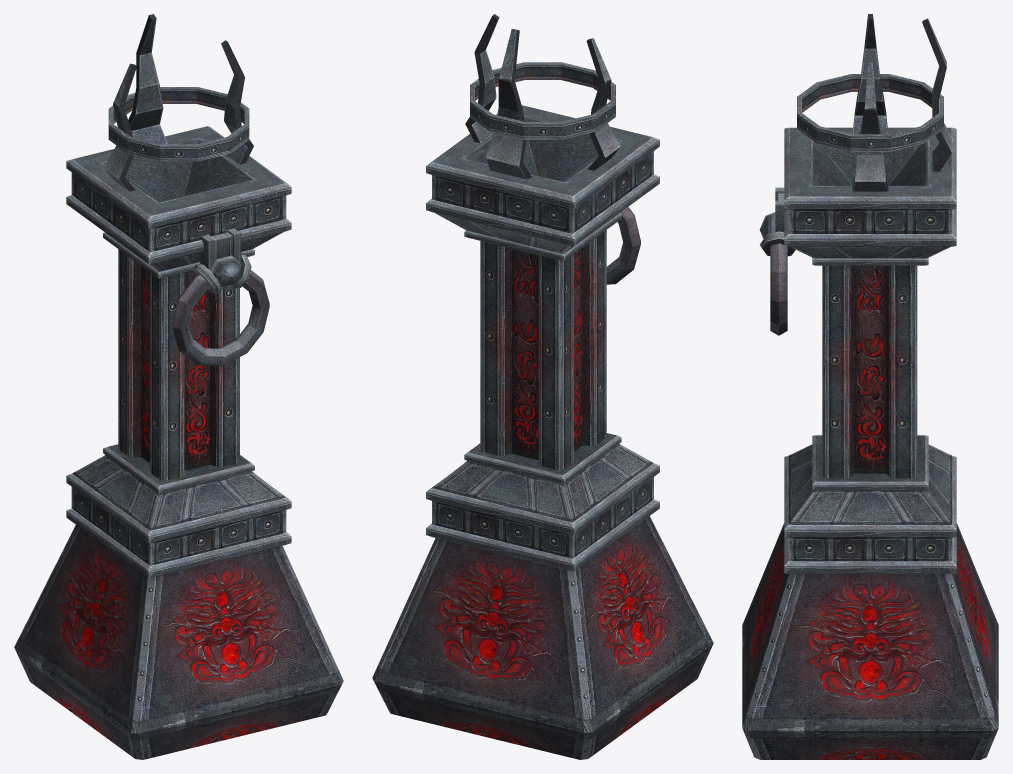
File: steel_pillar.glb
3 views of the same model, side by side, from view 1: azimuth 30°, elevation 25°; view 2: azimuth 150°, elevation 25°; view 3: azimuth 270°, elevation 25° (orthographic). The views are drawn at different scales.
Parts seen in each view (by area): view 1: steel_pillar; view 2: steel_pillar; view 3: steel_pillar.
Part boxes in pixels (left/top/right/bottom): steel_pillar: left=14, top=14, right=343, bottom=759; steel_pillar: left=372, top=14, right=713, bottom=759; steel_pillar: left=742, top=14, right=998, bottom=759.
Bounding box in the file's own units: 3.51 × 10.43 × 3.51.
1 material, 1 textured.
